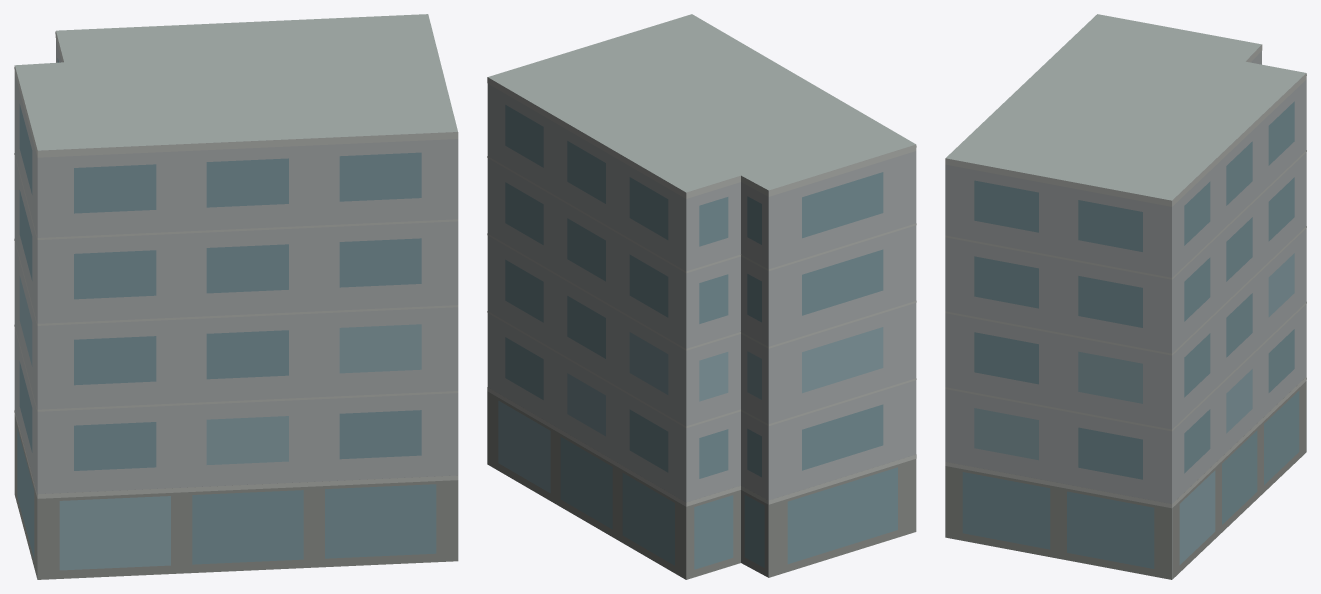
Rendered from survey-upis-32728415.glb.
3 renders of one model, left to right at view 1: azimuth 30°, elevation 25°; view 2: azimuth 150°, elevation 25°; view 3: azimuth 270°, elevation 25°, orthographic. The views are drawn at different scales.
Visible parts, largest first — view 1: survey-upis-32728415.tmp; view 2: survey-upis-32728415.tmp; view 3: survey-upis-32728415.tmp.
Boxes of the visible parts, bbox=[...] form: survey-upis-32728415.tmp: bbox=[14, 14, 458, 579]; survey-upis-32728415.tmp: bbox=[487, 14, 916, 579]; survey-upis-32728415.tmp: bbox=[945, 14, 1306, 579].
Size of the model in its own units: 15.54 by 14.7 by 12.71.
